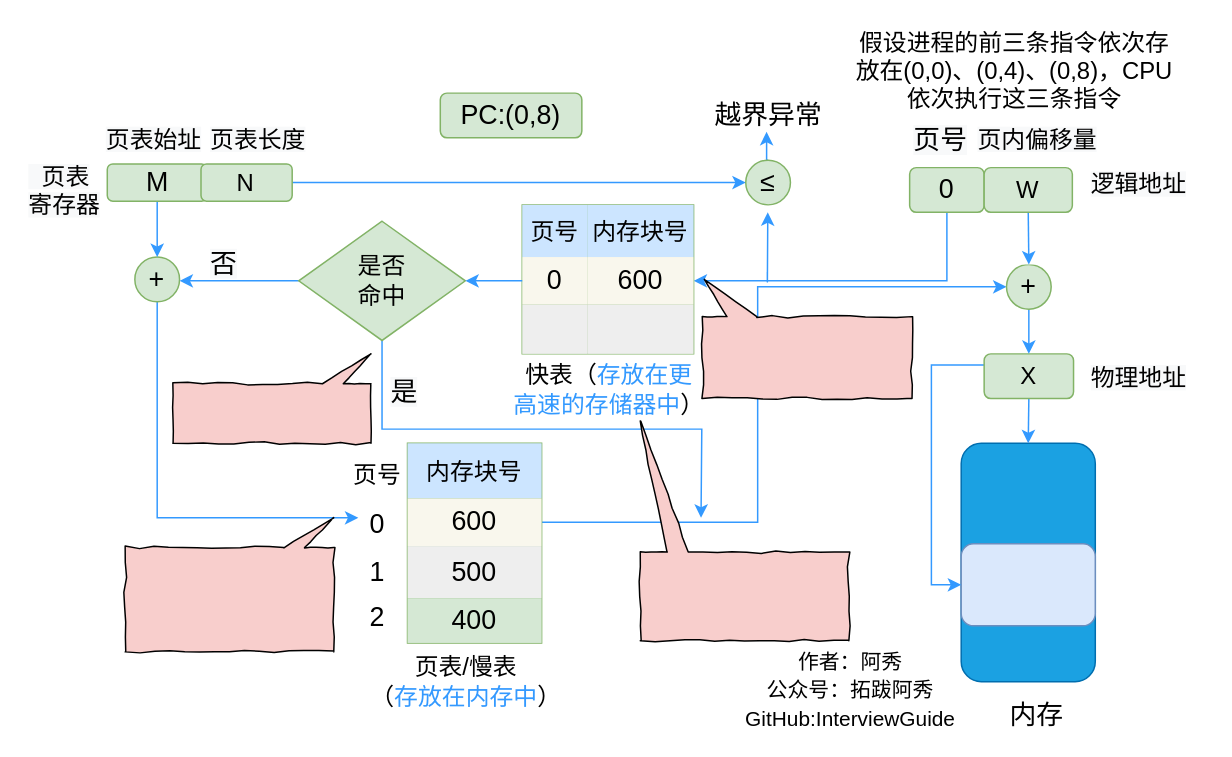
Image size: 1232x757. Some labels were removed from this diagram. The shapes that lost their labels are listed below. From the top down, each one's centre as x and y in pixels, then its label:
At pixel 806 338: "最近使用过的页表 项会放入快表".
At pixel 271 397: "若快表命中就不需 要再访问内存了".
At pixel 744 530: "快表中存放的是 页表的一部分副本".
At pixel 229 584: "若快表中没有目标 页表项，则需要查 询内存中的页表".
At pixel 1027 584: "目标页面".
